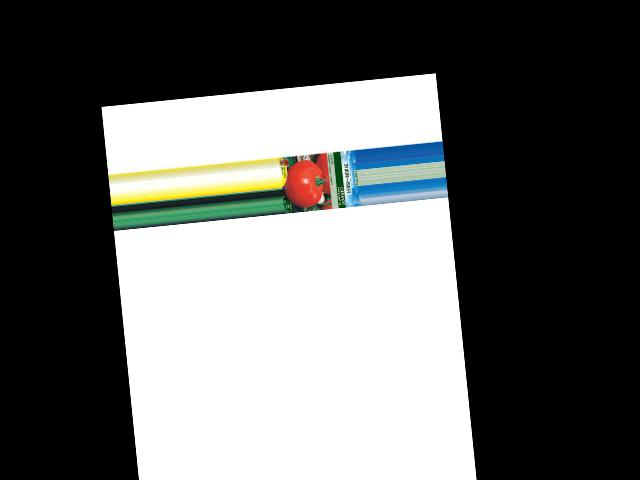tomato: (281, 158, 325, 209)
